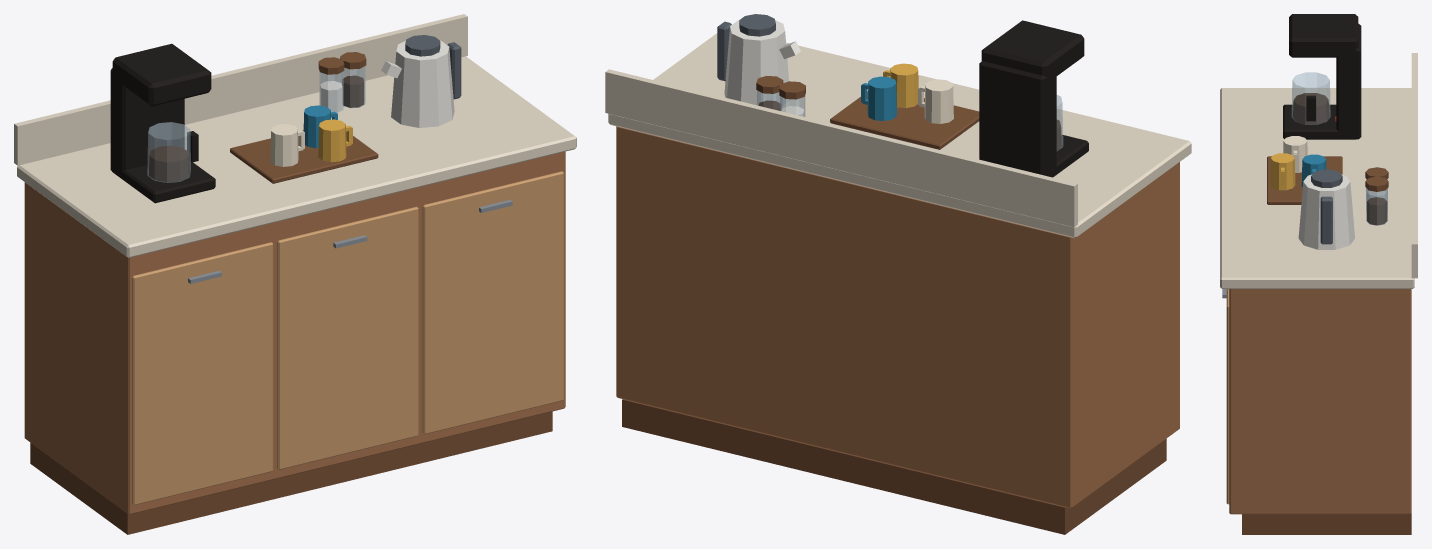
The model's file is pantry_counter.glb.
3 views of the same model, side by side, from view 1: azimuth 30°, elevation 25°; view 2: azimuth 150°, elevation 25°; view 3: azimuth 270°, elevation 25° (orthographic). The views are drawn at different scales.
Visible parts, largest first — view 1: PantryCounter; view 2: PantryCounter; view 3: PantryCounter.
Part boxes in pixels (<box>): PantryCounter: <box>14,14,576,534</box>; PantryCounter: <box>605,14,1191,534</box>; PantryCounter: <box>1220,14,1417,534</box>.
Bounding box in the file's own units: 1.44 × 1.27 × 0.63.
